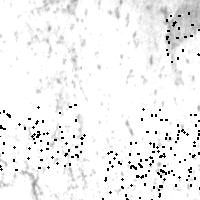pitted_surface: (5, 7, 197, 199), (27, 104, 83, 163), (107, 142, 163, 198), (141, 108, 198, 159), (102, 150, 160, 200), (24, 119, 80, 166), (159, 129, 200, 187), (0, 110, 38, 169), (166, 9, 200, 61)
